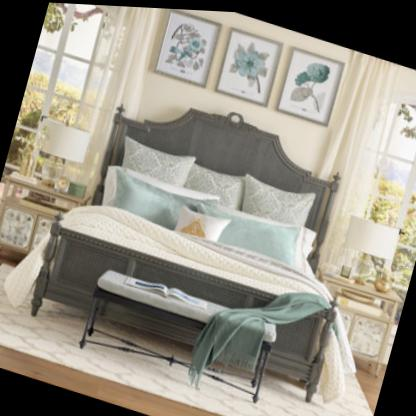Bed: (44, 83, 352, 381)
Frame: (152, 7, 222, 86), (276, 42, 345, 122), (215, 24, 283, 104)
